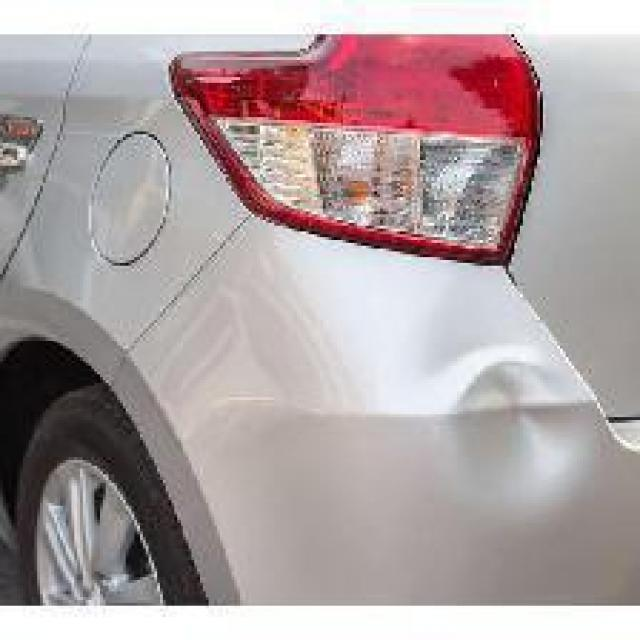damaged: (146, 280, 352, 449), (448, 359, 594, 512)
